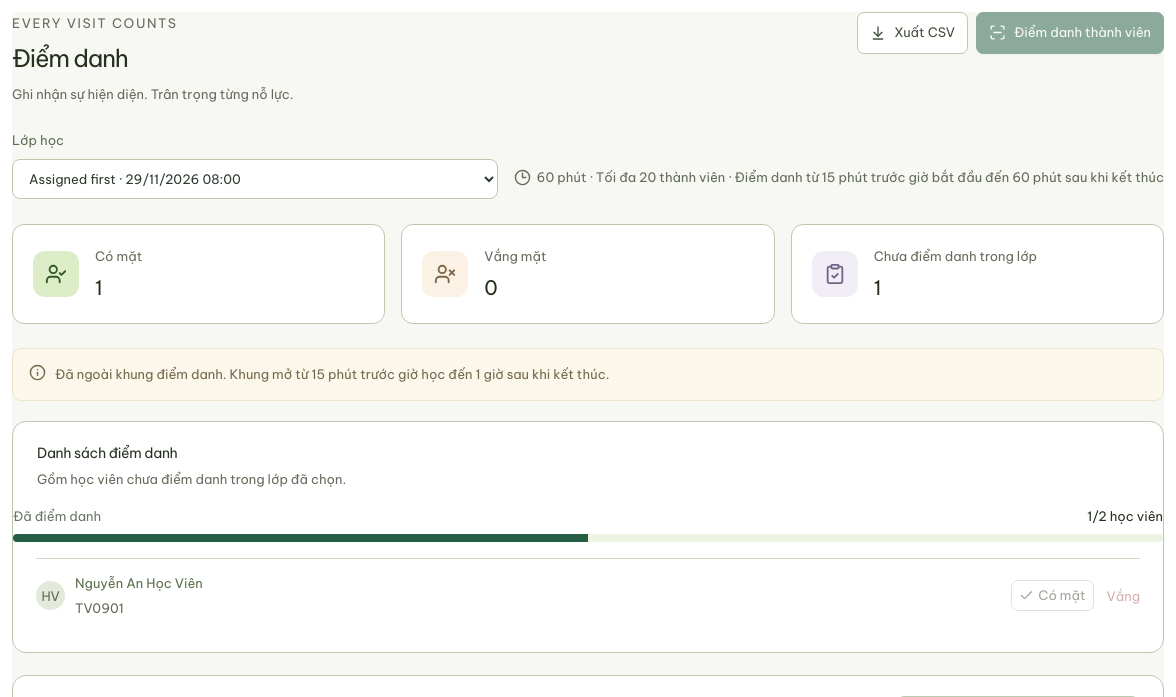
it: Attendance student names stay within each role's API access › loads only the selected class and changes names when Coach changes class
Expected: the text "Nguyễn An Học Viên" is shown, [75,576,203,592]
Select "Assigned second · 29/11/2026 08:00" in the dropdown named "Lớp cần điểm danh" at (255,179), box [12,159,498,199]
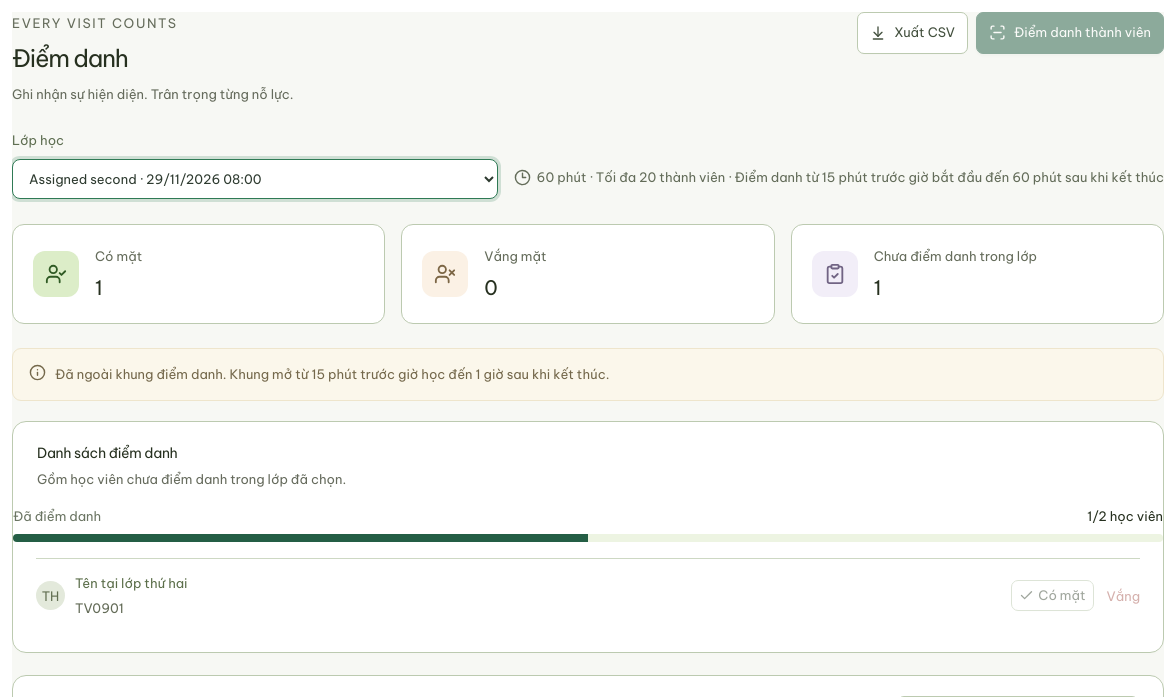
Expected: the text "Tên tại lớp thứ hai" is shown, [75,576,188,592]
Expected: the text "Nguyễn An Học Viên" is gone
